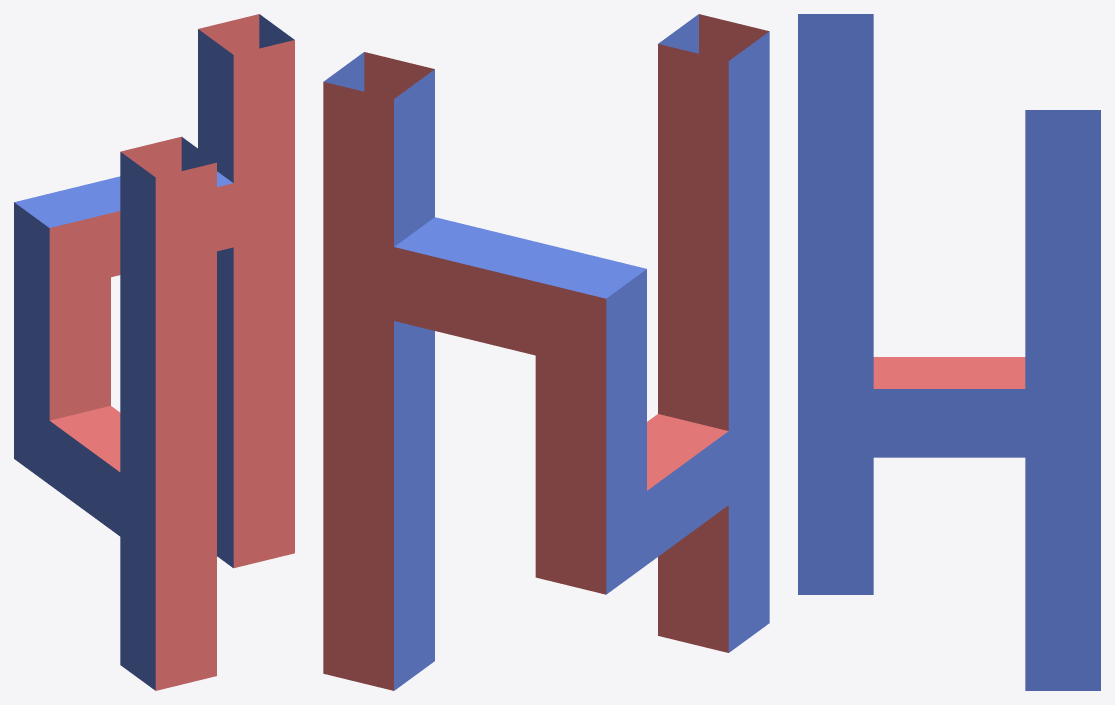
The model's file is cnot.dae.
3 views of the same model, side by side, from view 1: azimuth 30°, elevation 25°; view 2: azimuth 150°, elevation 25°; view 3: azimuth 270°, elevation 25° (orthographic). The views are drawn at different scales.
Visible parts, largest first — view 1: ZXO (×18), ZXZ (×8), ZXX (×3), ZOX (×2), OXZ (×2); view 2: ZXO (×18), ZXZ (×8), OXZ (×2), ZXX (×3), ZOX (×2); view 3: ZXO (×8), ZXZ (×3), ZOX (×2), ZXX.
Part boxes in pixels (x1,y1,x2,y2): ZXO (×18): [14, 14, 294, 690]; ZXZ (×8): [14, 168, 294, 439]; ZXX (×3): [14, 395, 216, 562]; ZOX (×2): [49, 405, 120, 536]; OXZ (×2): [76, 171, 233, 277]; ZXO (×18): [323, 14, 769, 690]; ZXZ (×8): [323, 179, 769, 542]; OXZ (×2): [394, 217, 575, 355]; ZXX (×3): [535, 401, 769, 594]; ZOX (×2): [647, 414, 728, 564]; ZXO (×8): [798, 14, 1100, 690]; ZXZ (×3): [798, 183, 1100, 553]; ZOX (×2): [873, 357, 1025, 457]; ZXX: [798, 389, 873, 457].
Size of the model in its own units: 4 by 4 by 8.
